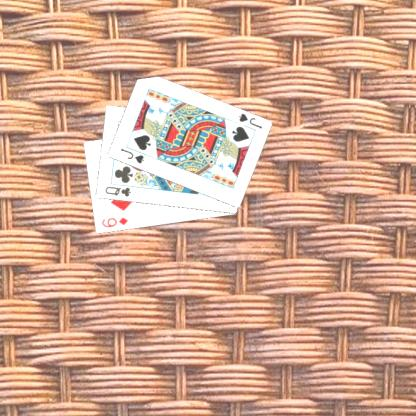6D: (98, 214, 128, 230)
JS: (118, 145, 145, 165), (236, 111, 263, 130)
QC: (102, 184, 132, 198)
